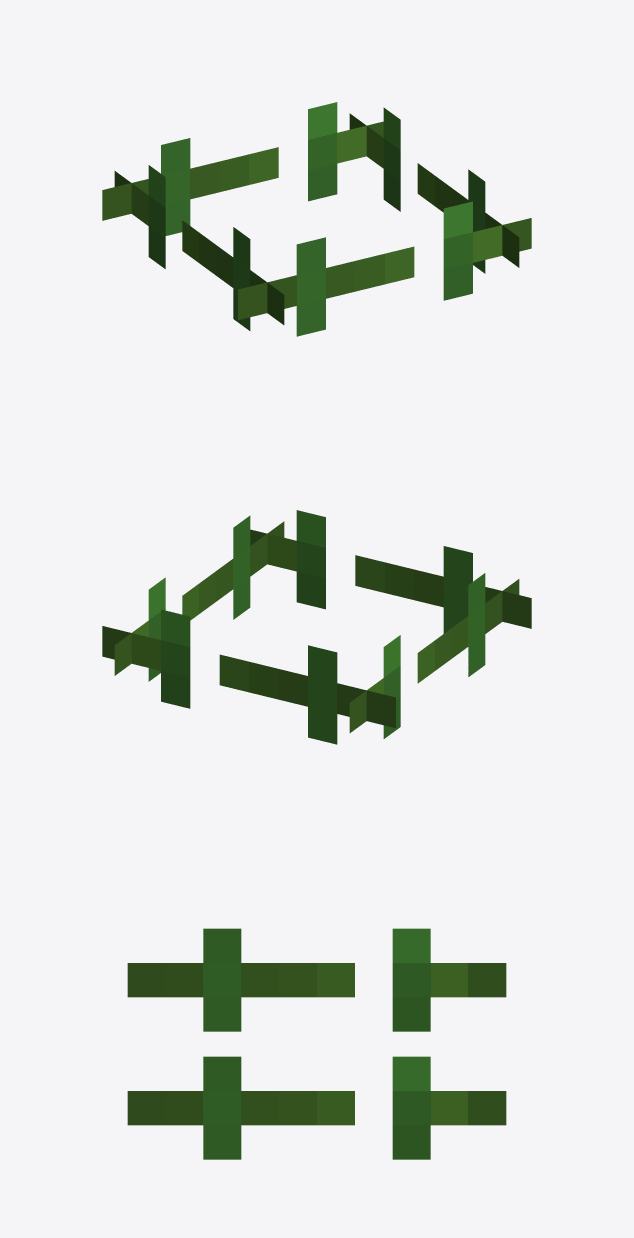
The model's file is pumpkin_stem_0.gltf.
3 views of the same model, one above another, from view 1: azimuth 30°, elevation 25°; view 2: azimuth 150°, elevation 25°; view 3: azimuth 270°, elevation 25° (orthographic). The views are drawn at different scales.
Visible parts, largest first — view 1: pumpkin_stem_0; view 2: pumpkin_stem_0; view 3: pumpkin_stem_0.
Boxes of the visible parts, x1,y1,x2,y2 form: pumpkin_stem_0: (102,102,531,336); pumpkin_stem_0: (102,510,531,744); pumpkin_stem_0: (127,928,506,1159).
Size of the model in its own units: 1 by 0.25 by 1.
1 material, 1 textured.
